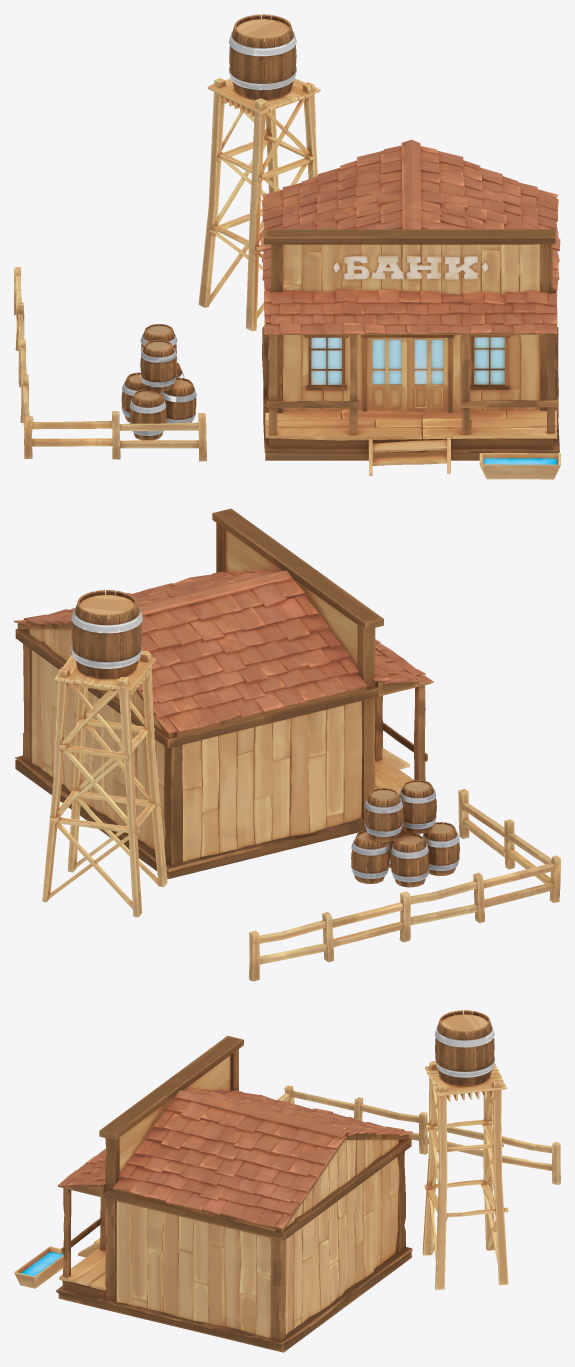
The picture shows the model from 3 angles, top to bottom: view 1: azimuth 30°, elevation 25°; view 2: azimuth 150°, elevation 25°; view 3: azimuth 270°, elevation 25°; orthographic projection. The views are drawn at different scales.
Visible parts, largest first — view 1: bank_Baked, bank elements_Baked; view 2: bank_Baked, bank elements_Baked; view 3: bank_Baked, bank elements_Baked.
Boxes of the visible parts, left/top/right/bottom form: bank_Baked: left=261, top=139, right=560, bottom=479; bank elements_Baked: left=14, top=14, right=320, bottom=461; bank_Baked: left=14, top=508, right=433, bottom=878; bank elements_Baked: left=42, top=590, right=560, bottom=981; bank_Baked: left=14, top=1035, right=412, bottom=1352; bank elements_Baked: left=277, top=1010, right=560, bottom=1289.
Bounding box in the file's own units: 13.59 × 6.91 × 13.71.
Materials: 2 (2 with a texture image).
